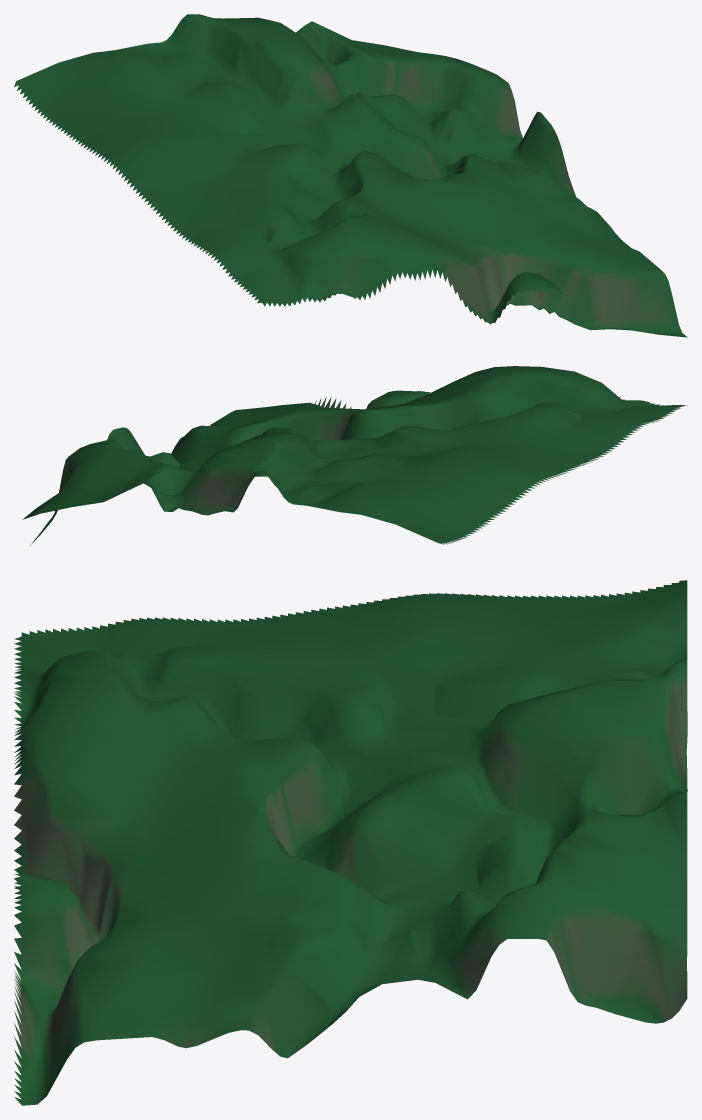
The model's file is payo_land_x1_y1_lod2.glb.
3 renders of one model, top to bottom at view 1: azimuth 30°, elevation 25°; view 2: azimuth 150°, elevation 25°; view 3: azimuth 270°, elevation 25°, orthographic. The views are drawn at different scales.
Visible parts, largest first — view 1: payo_land_x1_y1; view 2: payo_land_x1_y1; view 3: payo_land_x1_y1.
Boxes of the visible parts, x1=… form: payo_land_x1_y1: x1=14, y1=14, x2=687, y2=337; payo_land_x1_y1: x1=22, y1=366, x2=687, y2=546; payo_land_x1_y1: x1=14, y1=580, x2=687, y2=1105.
Size of the model in its own units: 258 by 118 by 258.
